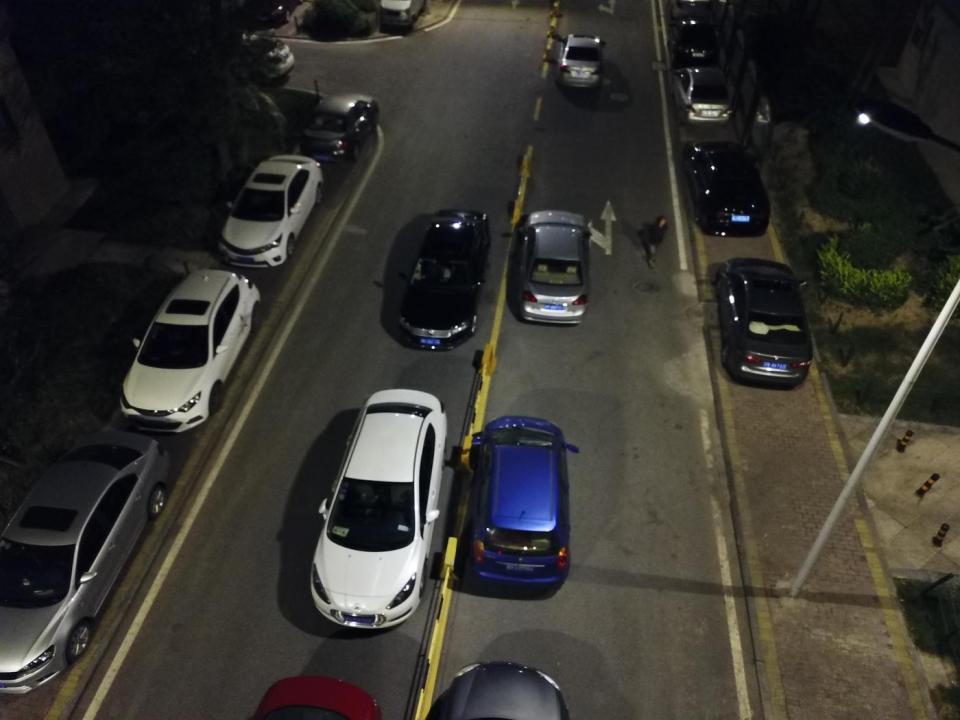car: (0, 430, 169, 696), (308, 388, 449, 630), (118, 267, 264, 435), (468, 415, 580, 592), (398, 208, 493, 351), (714, 256, 812, 389), (217, 154, 325, 270), (516, 208, 593, 326), (683, 140, 771, 236), (302, 92, 378, 162), (195, 34, 294, 82), (669, 64, 733, 127), (556, 33, 606, 89), (668, 20, 719, 67)
